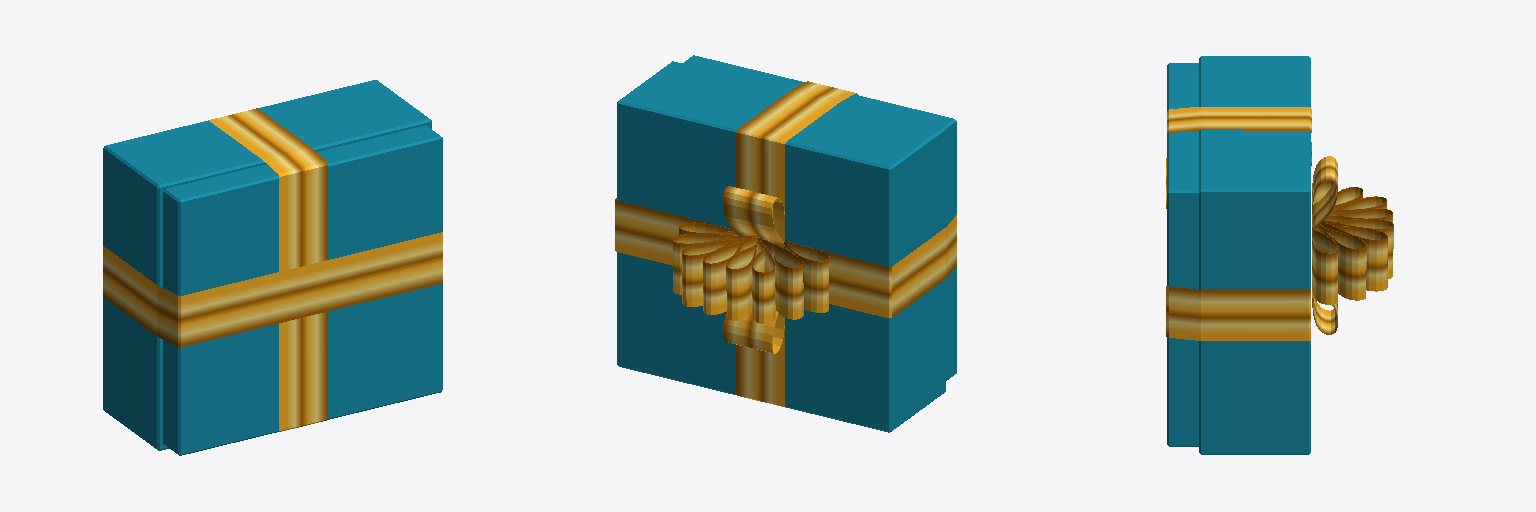
The picture shows the model from 3 angles: view 1: azimuth 30°, elevation 25°; view 2: azimuth 150°, elevation 25°; view 3: azimuth 270°, elevation 25°; orthographic projection.
Parts seen in each view (by area): view 1: Box03, Box04, Plane04, Plane06; view 2: Box04, Plane04, Plane06, Box03, Plane07, Plane09, Plane10, Plane11, Plane08; view 3: Box04, Box03, Plane04, Plane06, Plane11, Plane10, Plane08, Plane07, Plane09.
Part boxes in pixels (bbox=[...]): Box03: bbox=[163, 125, 442, 455]; Box04: bbox=[103, 80, 431, 450]; Plane04: bbox=[103, 232, 442, 346]; Plane06: bbox=[209, 108, 327, 431]; Box04: bbox=[617, 61, 945, 432]; Plane04: bbox=[615, 198, 956, 317]; Plane06: bbox=[736, 81, 857, 407]; Box03: bbox=[682, 55, 956, 380]; Plane07: bbox=[723, 186, 784, 353]; Plane09: bbox=[703, 237, 757, 320]; Plane10: bbox=[682, 237, 775, 323]; Plane11: bbox=[673, 234, 803, 319]; Plane08: bbox=[679, 222, 828, 312]; Box04: bbox=[1199, 56, 1310, 454]; Box03: bbox=[1167, 63, 1198, 446]; Plane04: bbox=[1166, 158, 1310, 340]; Plane06: bbox=[1167, 107, 1311, 165]; Plane11: bbox=[1316, 187, 1366, 300]; Plane10: bbox=[1321, 196, 1387, 291]; Plane08: bbox=[1312, 181, 1337, 304]; Plane07: bbox=[1312, 156, 1337, 334]; Plane09: bbox=[1323, 208, 1393, 278].
Size of the model in its own units: 143 by 132 by 102.
Materials: 2 (1 with a texture image).